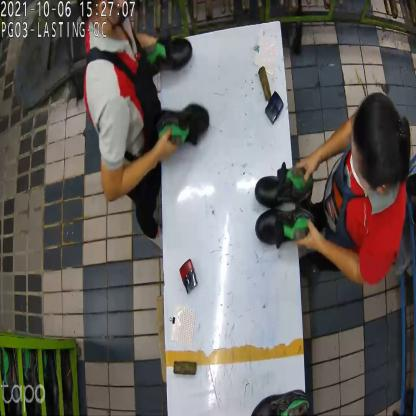shoes: (145, 35, 211, 145), (252, 166, 320, 250)
stamp: (263, 91, 286, 125), (182, 258, 199, 297)
